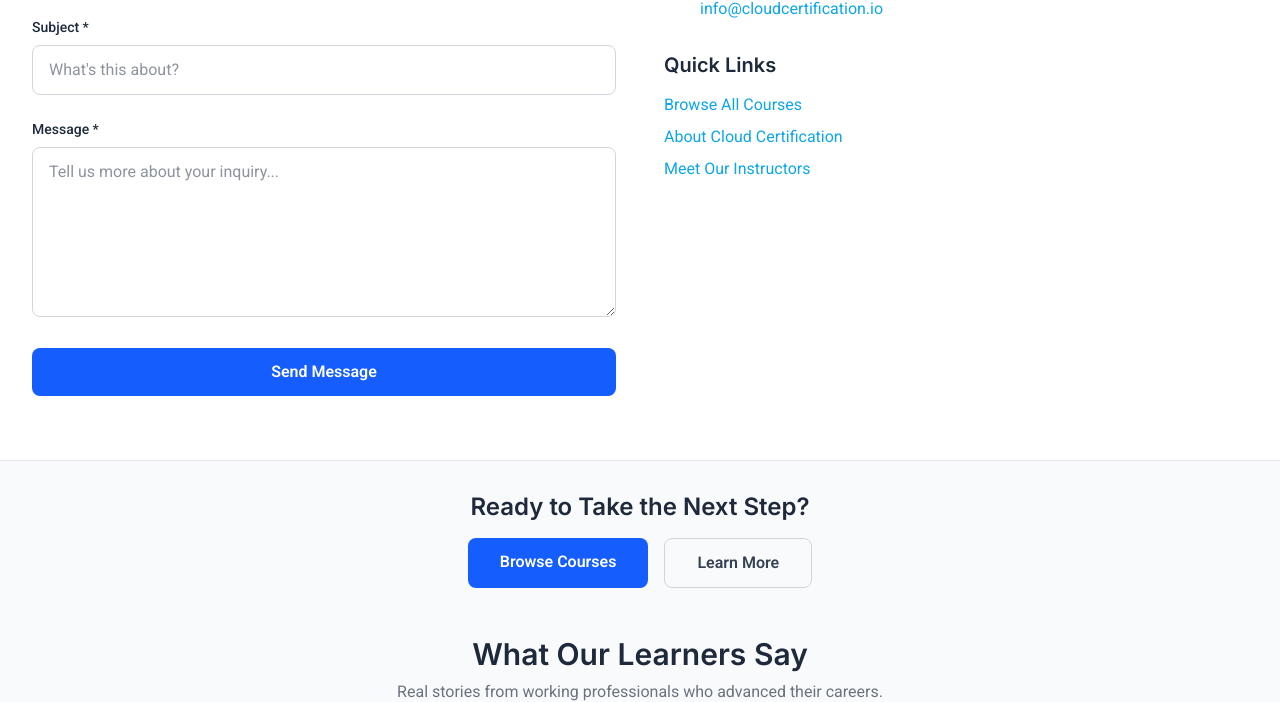
it: Contact Page › should clear validation errors when user starts typing
(page scrolled)
Note: Submit empty form to trigger validation
Click the button "Send Message" at (324, 372), box left=32, top=348, right=616, bottom=396
(page scrolled)
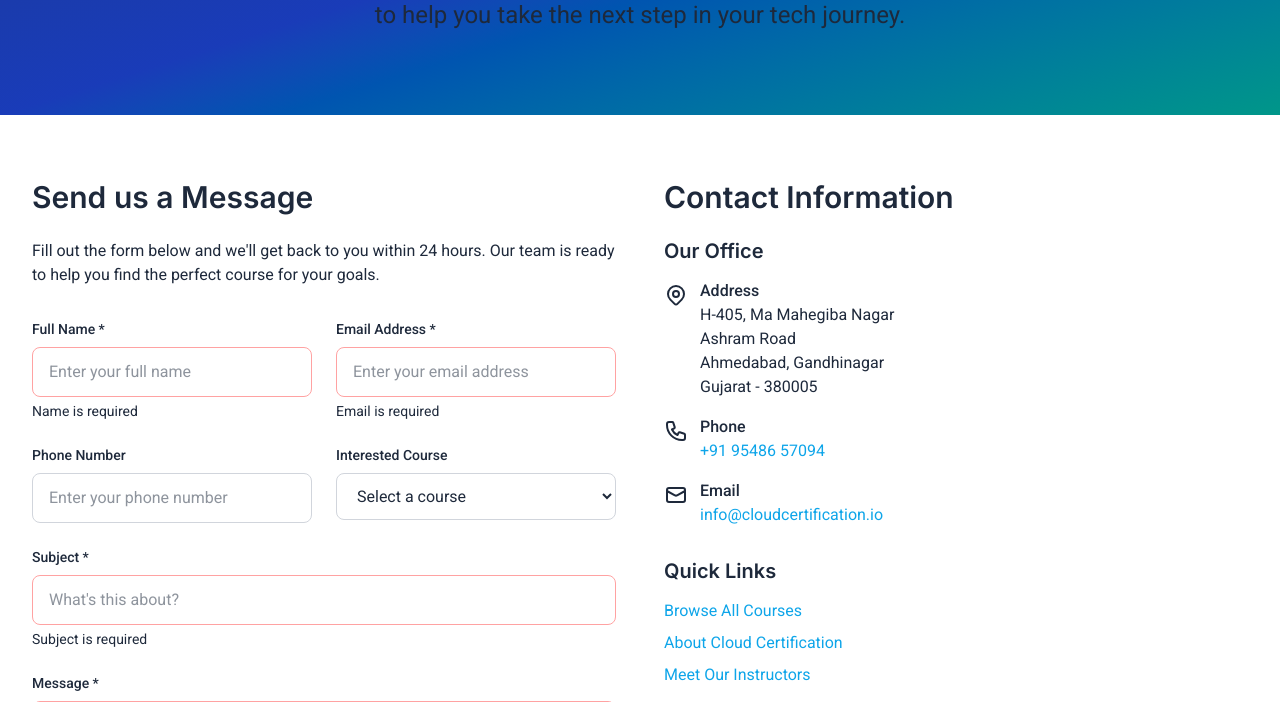
Result: the text "Name is required" is shown at left=32, top=403, right=138, bottom=419
Note: Start typing in name field
Type "John" into the field labelled "Full Name *" at (172, 372), box left=32, top=347, right=312, bottom=397
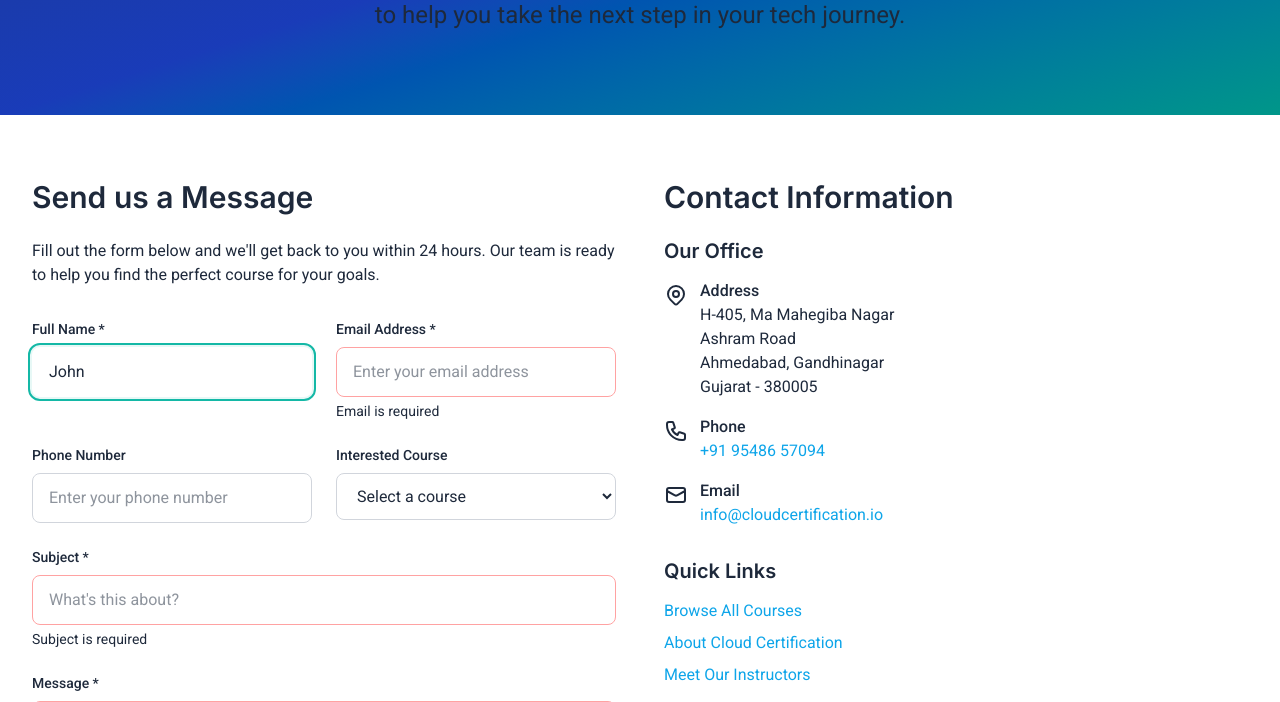
Result: the text "Name is required" is gone
